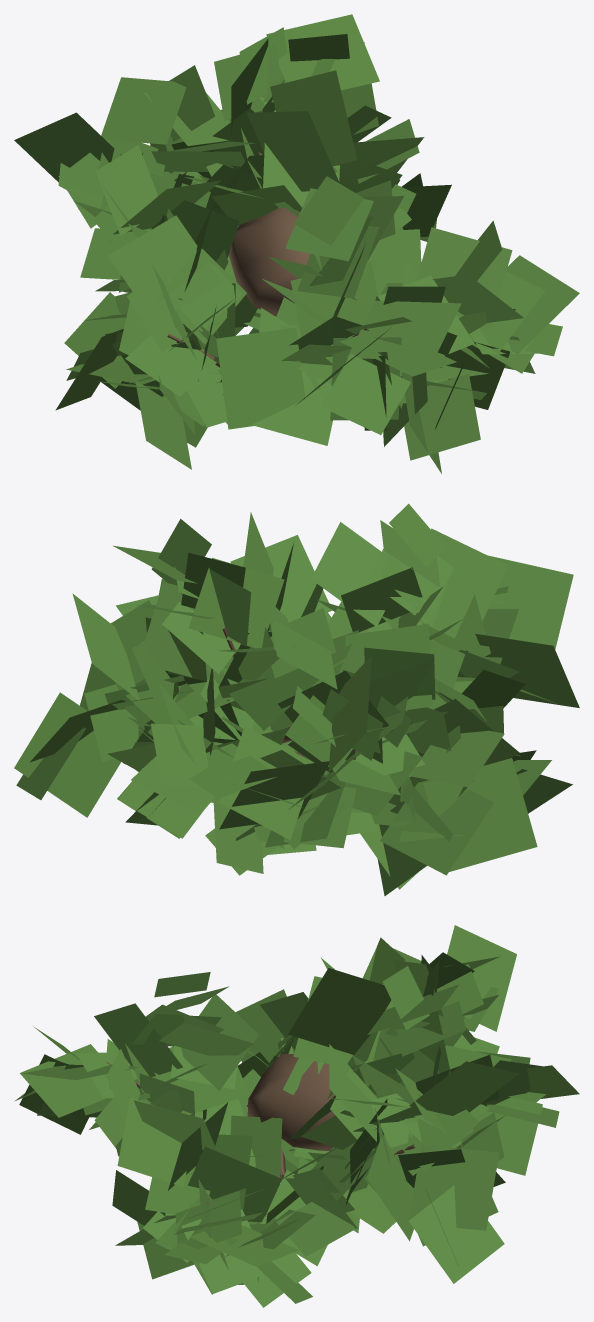
Rendered from foliage-shrub.glb.
3 renders of one model, top to bottom at view 1: azimuth 30°, elevation 25°; view 2: azimuth 150°, elevation 25°; view 3: azimuth 270°, elevation 25°, orthographic. The views are drawn at different scales.
Visible parts, largest first — view 1: leaves, bark; view 2: leaves; view 3: leaves, bark.
Boxes of the visible parts, bbox=[...] form: leaves: bbox=[14, 14, 579, 473]; bark: bbox=[167, 152, 368, 367]; leaves: bbox=[14, 503, 579, 895]; leaves: bbox=[14, 925, 579, 1307]; bark: bbox=[106, 1054, 415, 1204].
Bounding box in the file's own units: 3.13 × 2.24 × 3.69.
